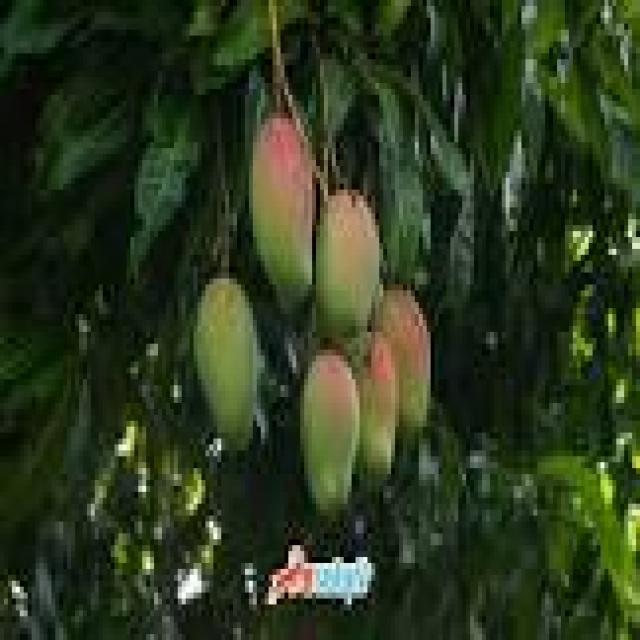mango: (251, 114, 315, 285), (194, 278, 256, 450), (301, 351, 360, 514), (316, 191, 379, 336), (380, 287, 431, 431), (361, 332, 399, 476)
